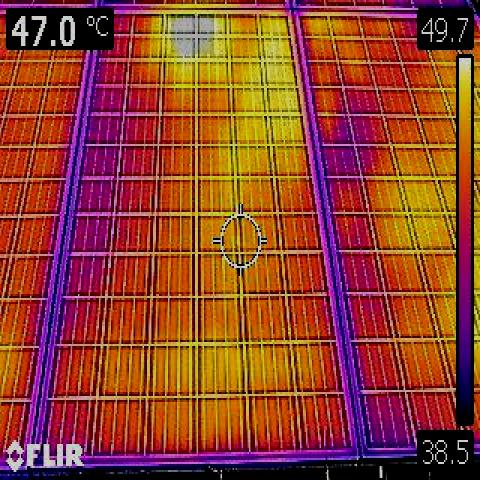fault: (171, 14, 214, 54)
